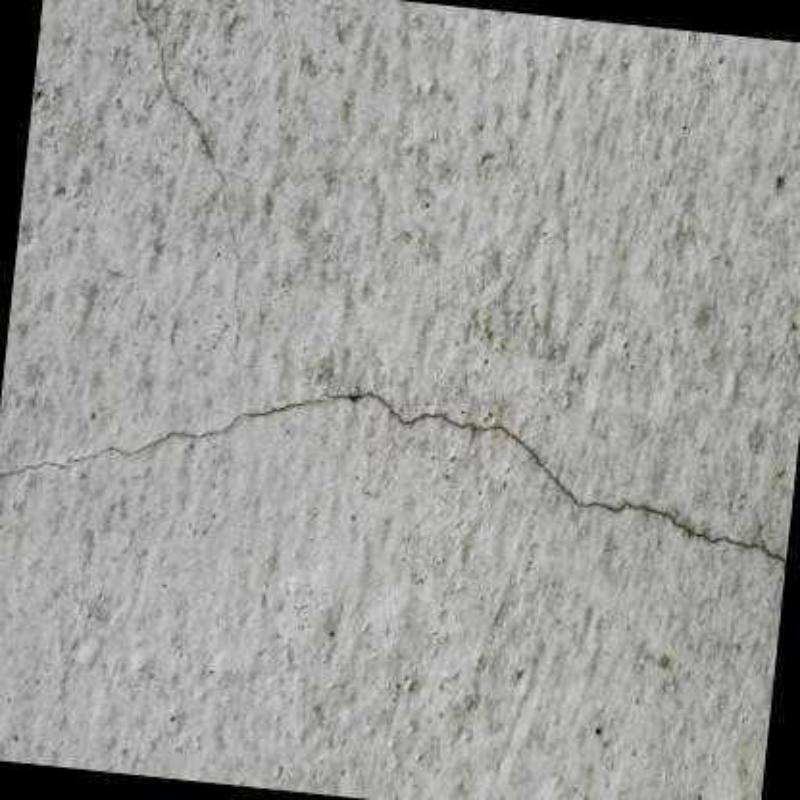pothole: (1, 392, 787, 570)
